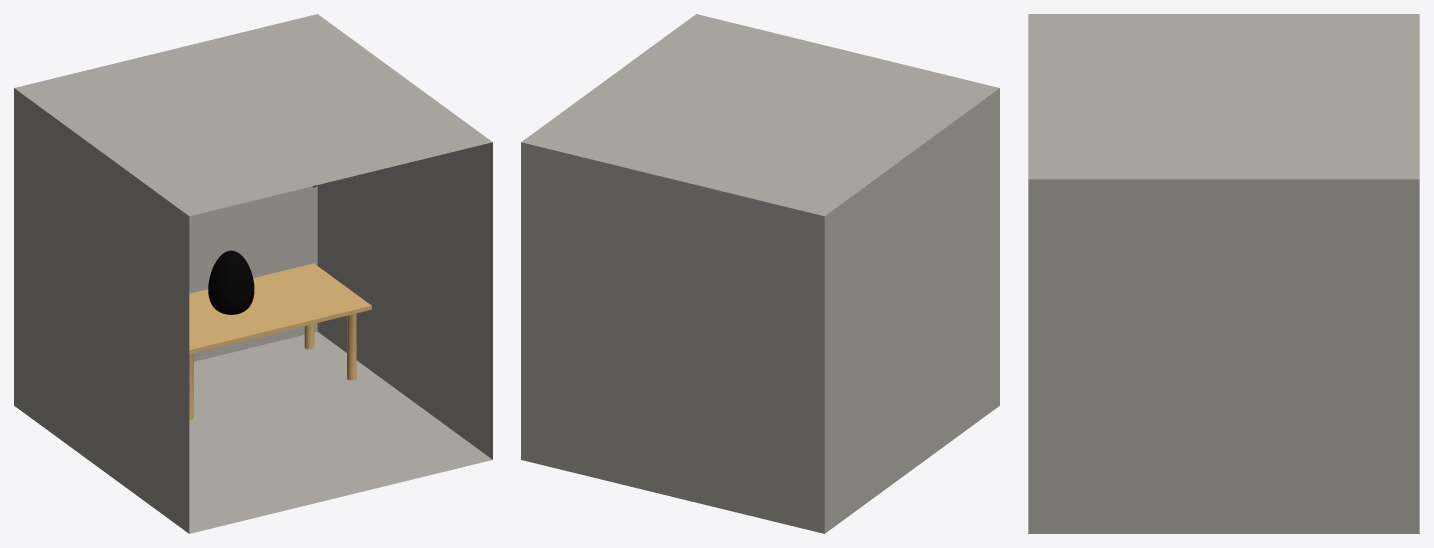
Rendered from veach_bidi.obj.
3 views of the same model, side by side, from view 1: azimuth 30°, elevation 25°; view 2: azimuth 150°, elevation 25°; view 3: azimuth 270°, elevation 25° (orthographic). The views are drawn at different scales.
Parts seen in each view (by area): view 1: Mesh010, Mesh009, Mesh002; view 2: Mesh010; view 3: Mesh010.
Boxes of the visible parts, box(x1,y1,x2,y2) form: Mesh010: box(14, 14, 492, 533); Mesh009: box(189, 263, 371, 420); Mesh002: box(208, 250, 254, 314); Mesh010: box(521, 14, 999, 533); Mesh010: box(1028, 14, 1419, 533).
Size of the model in its own units: 1.59 by 1.61 by 1.59.
